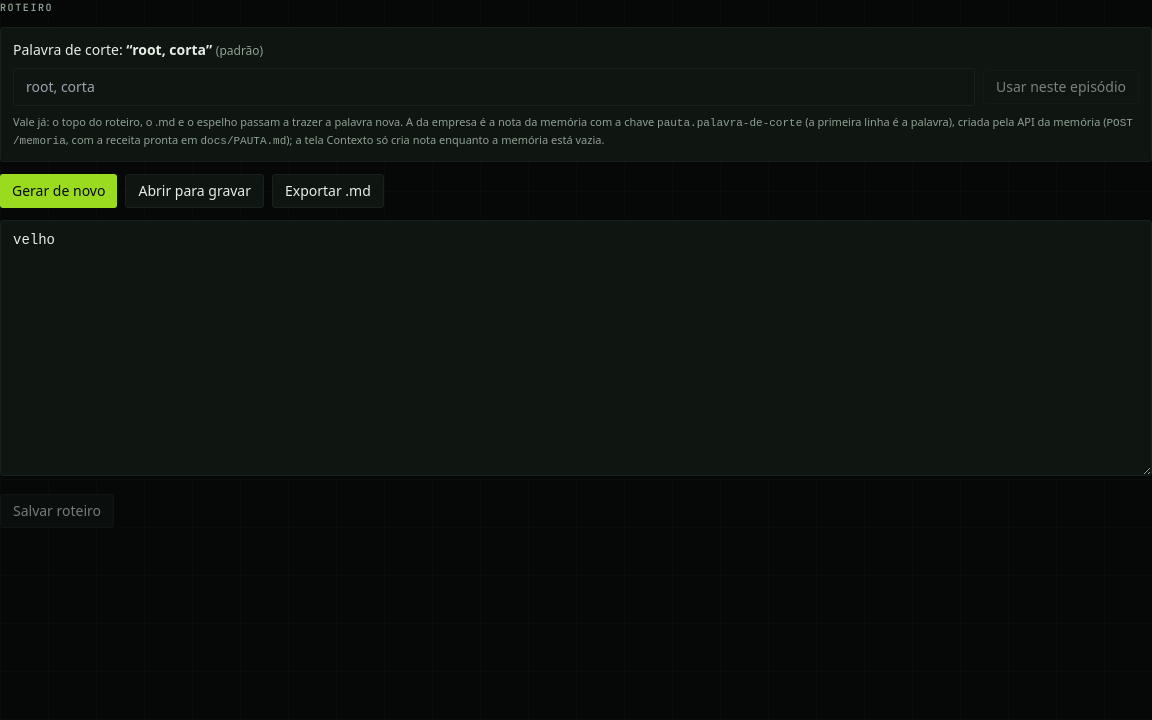
Test: editar, exportar e a palavra do episódio › editar à mão salva com a versão lida; o botão só acende quando o texto mudou
expect the button "Salvar roteiro" is disabled: met, box left=0, top=494, right=114, bottom=528
Type " e novo" into the text box named "Texto do roteiro". click: (576, 348)
box: left=0, top=220, right=1151, bottom=476
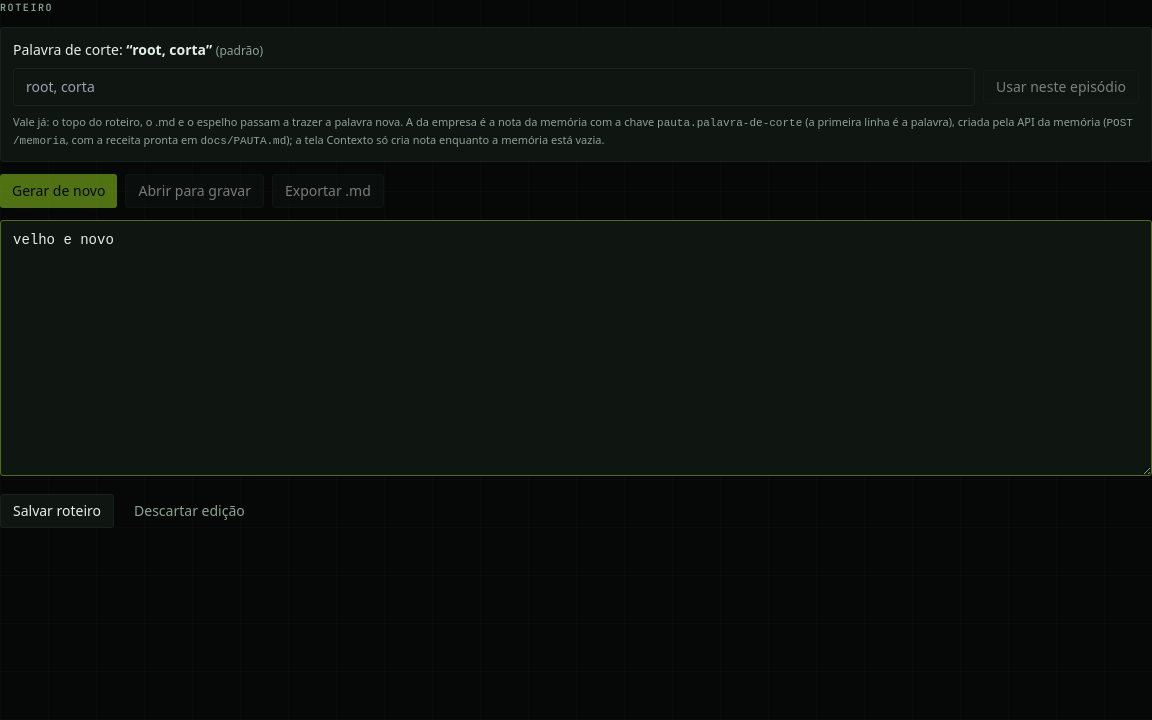
expect the button "Gerar de novo" is disabled: met, box left=0, top=174, right=117, bottom=208
Click the button "Salvar roteiro". click: (57, 511)
box: left=0, top=494, right=114, bottom=528
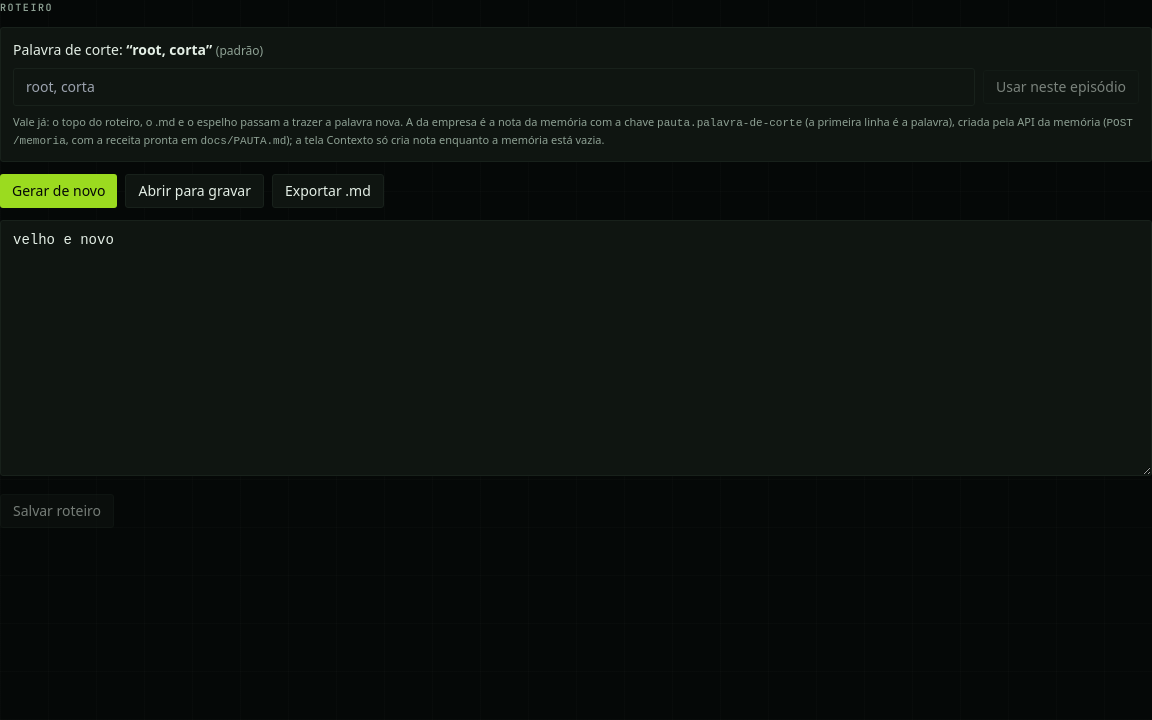
expect the button "Salvar roteiro" is disabled: met, box left=0, top=494, right=114, bottom=528
